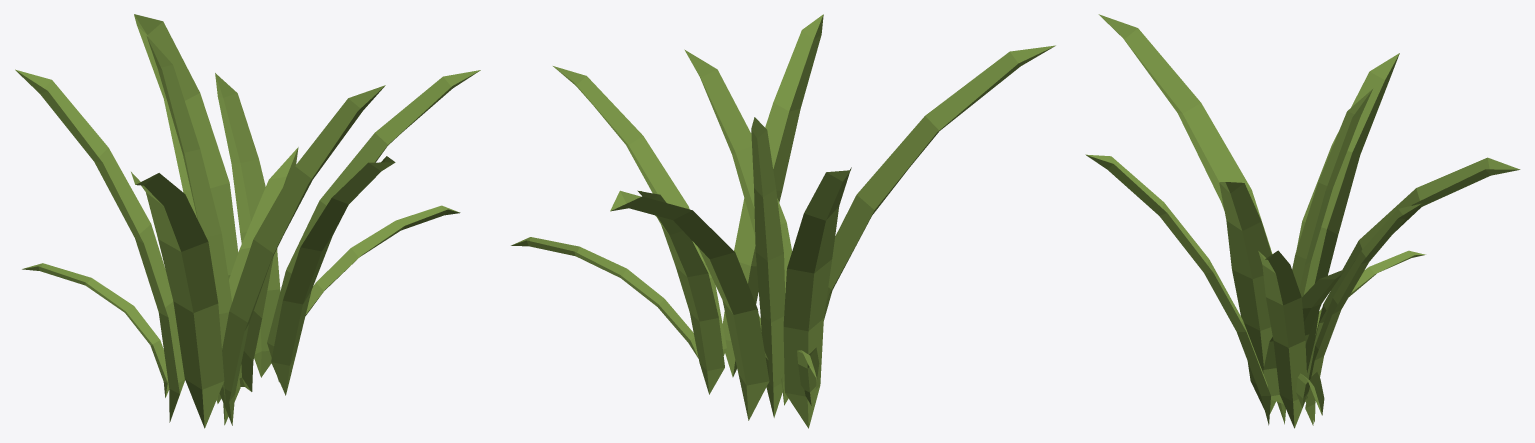
File: grass.glb
3 views of the same model, side by side, from view 1: azimuth 30°, elevation 25°; view 2: azimuth 150°, elevation 25°; view 3: azimuth 270°, elevation 25° (orthographic). The views are drawn at different scales.
Parts seen in each view (by area): view 1: Grass; view 2: Grass; view 3: Grass.
Boxes of the visible parts, box(x1,y1,x2,y2) form: Grass: box(15, 14, 480, 428); Grass: box(511, 14, 1055, 428); Grass: box(1085, 14, 1520, 428).
Size of the model in its own units: 0.7297 by 0.5637 by 0.6827.
1 material, 1 textured.
